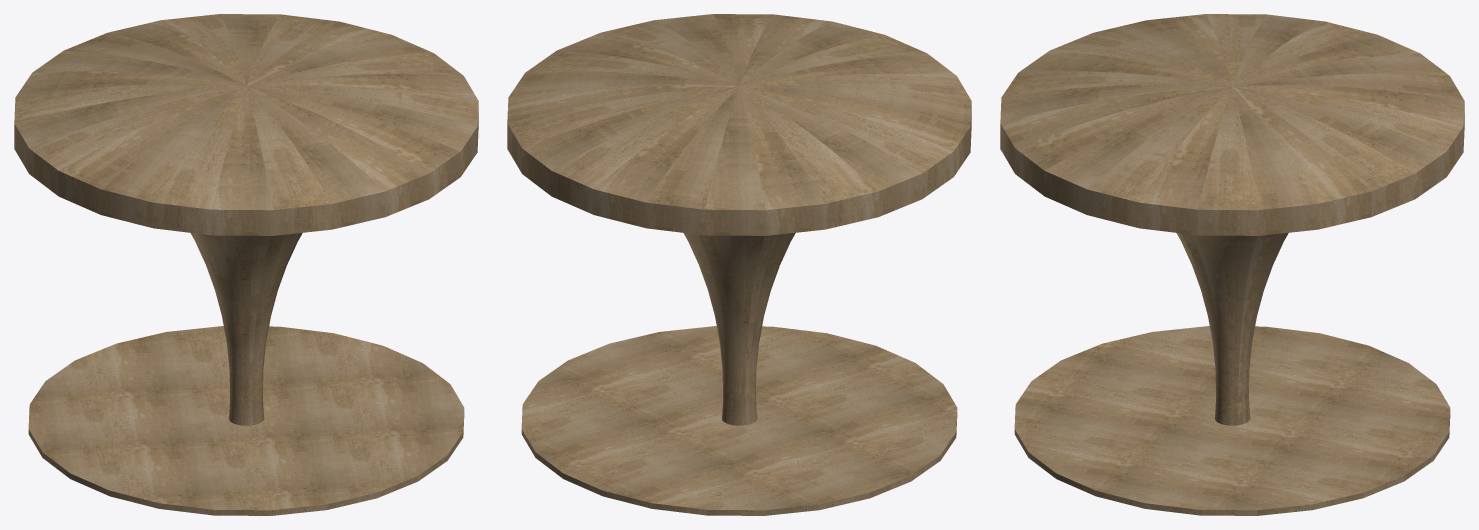
The picture shows the model from 3 angles, left to right: view 1: azimuth 30°, elevation 25°; view 2: azimuth 150°, elevation 25°; view 3: azimuth 270°, elevation 25°; orthographic projection.
Visible parts, largest first — view 1: mesh1_mesh1-geometry; view 2: mesh1_mesh1-geometry; view 3: mesh1_mesh1-geometry.
Part boxes in pixels (bbox=[...]): mesh1_mesh1-geometry: bbox=[14, 14, 478, 515]; mesh1_mesh1-geometry: bbox=[507, 14, 971, 515]; mesh1_mesh1-geometry: bbox=[1000, 14, 1464, 515].
Bounding box in the file's own units: 0.6151 × 0.4933 × 0.6151.
